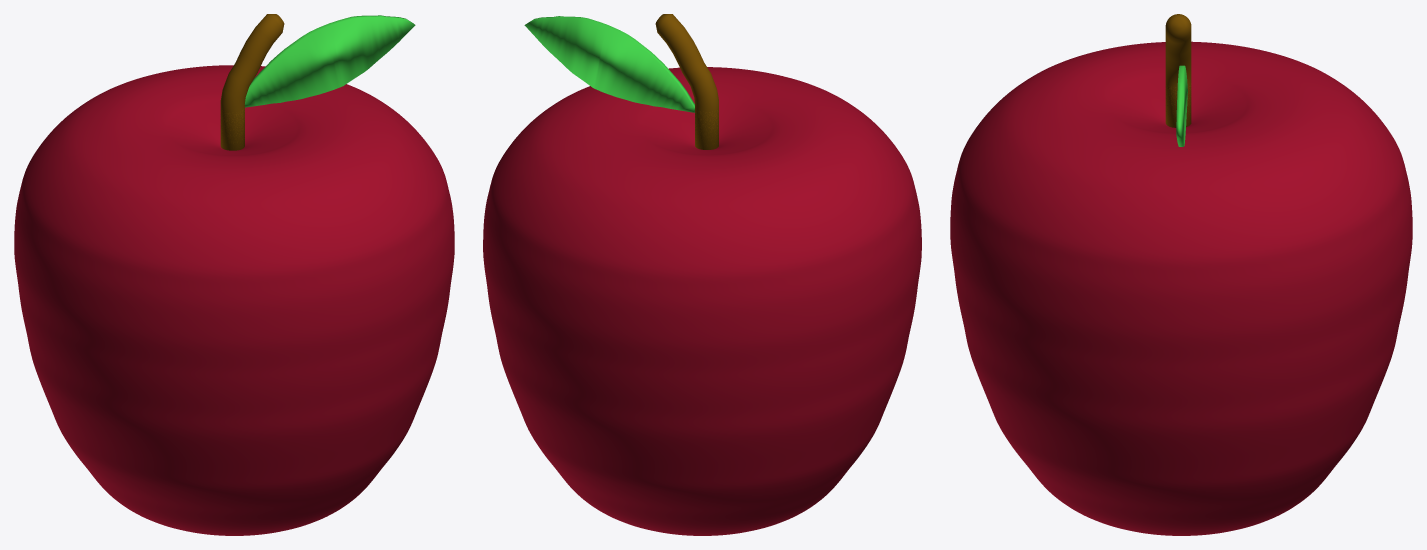
File: apple.fbx
The picture shows the model from 3 angles, left to right: view 1: azimuth 30°, elevation 25°; view 2: azimuth 150°, elevation 25°; view 3: azimuth 270°, elevation 25°; orthographic projection. The views are drawn at different scales.
Parts seen in each view (by area): view 1: Cylinder, Plane, Cylinder.001; view 2: Cylinder, Plane, Cylinder.001; view 3: Cylinder, Cylinder.001, Plane.
Boxes of the visible parts, left/top/right/bottom form: Cylinder: left=14, top=65, right=454, bottom=535; Plane: left=244, top=15, right=415, bottom=107; Cylinder.001: left=220, top=14, right=284, bottom=150; Cylinder: left=483, top=67, right=921, bottom=535; Plane: left=524, top=16, right=694, bottom=112; Cylinder.001: left=655, top=14, right=718, bottom=149; Cylinder: left=950, top=41, right=1412, bottom=535; Cylinder.001: left=1165, top=14, right=1191, bottom=127; Plane: left=1176, top=65, right=1187, bottom=146.
Bounding box in the file's own units: 831 × 992 × 831.
